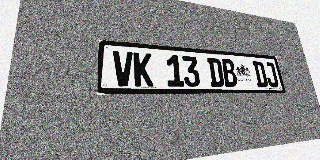1: (165, 54, 184, 87)
3: (182, 56, 200, 87)
B: (221, 59, 238, 87)
D: (207, 58, 225, 87), (252, 61, 269, 87)
J: (263, 62, 279, 87)
K: (133, 52, 153, 87)
V: (113, 51, 134, 86)
